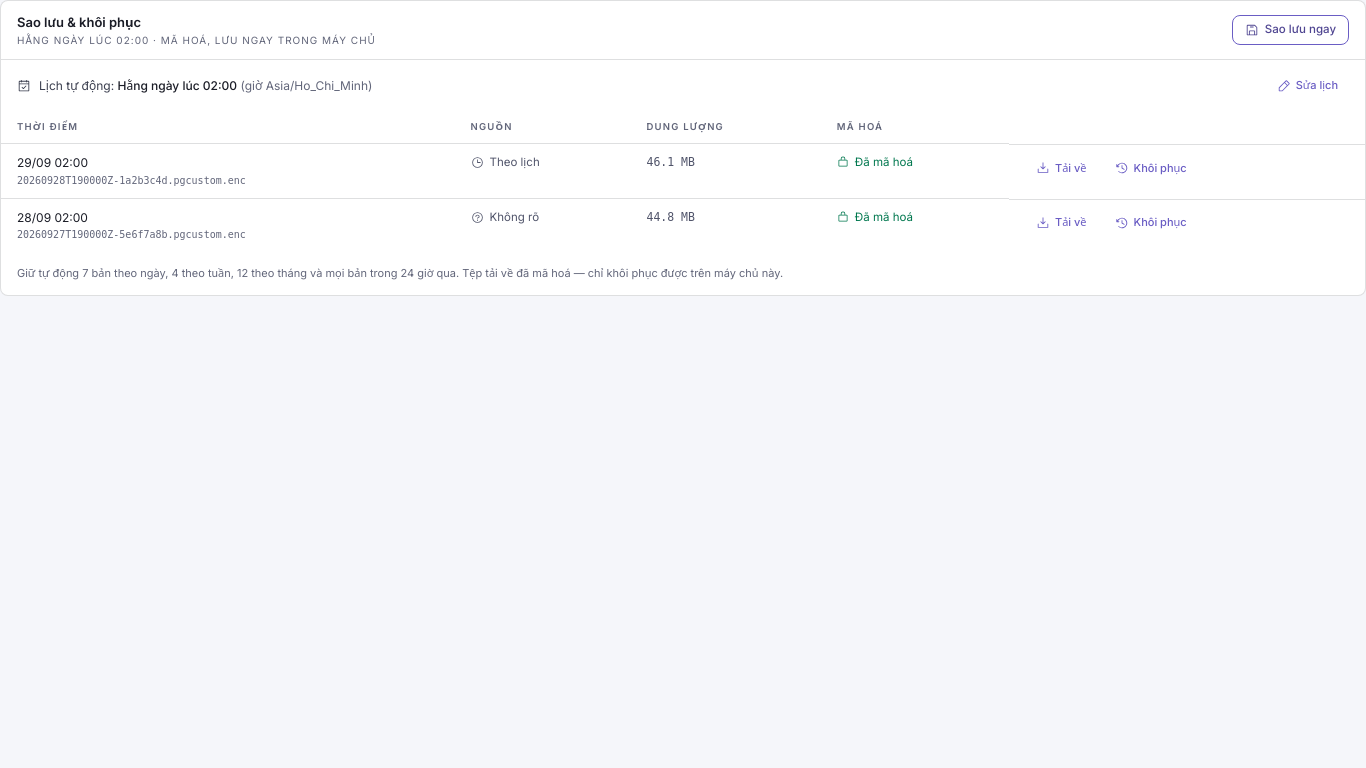
Test: <BackupPanel> › Khôi phục: phải gõ đúng "KHÔI PHỤC", gửi {key, confirm} rồi hiện tiến trình
Click the button with aria-label "Khôi phục bản 29/09 02:00". click: (1151, 168)
box: [1104,155,1198,182]
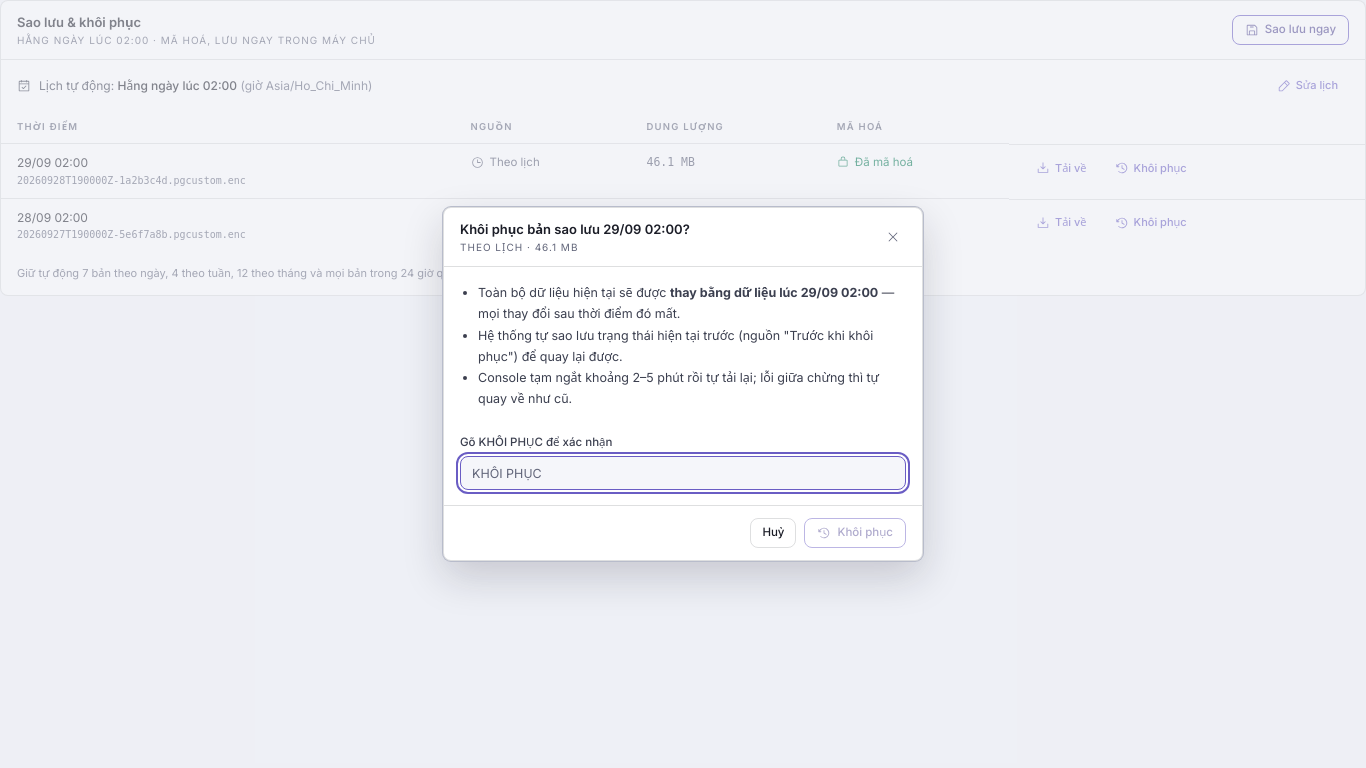
Expected: the text "Khôi phục bản sao lưu 29/09 02:00?" is shown, [460,220,690,238]
Expected: the button "Khôi phục" is disabled, [804,518,906,548]
Type "khôi phục" into the field labelled "Gõ KHÔI PHỤC để xác nhận". click: (683, 473)
box: [460,456,906,490]
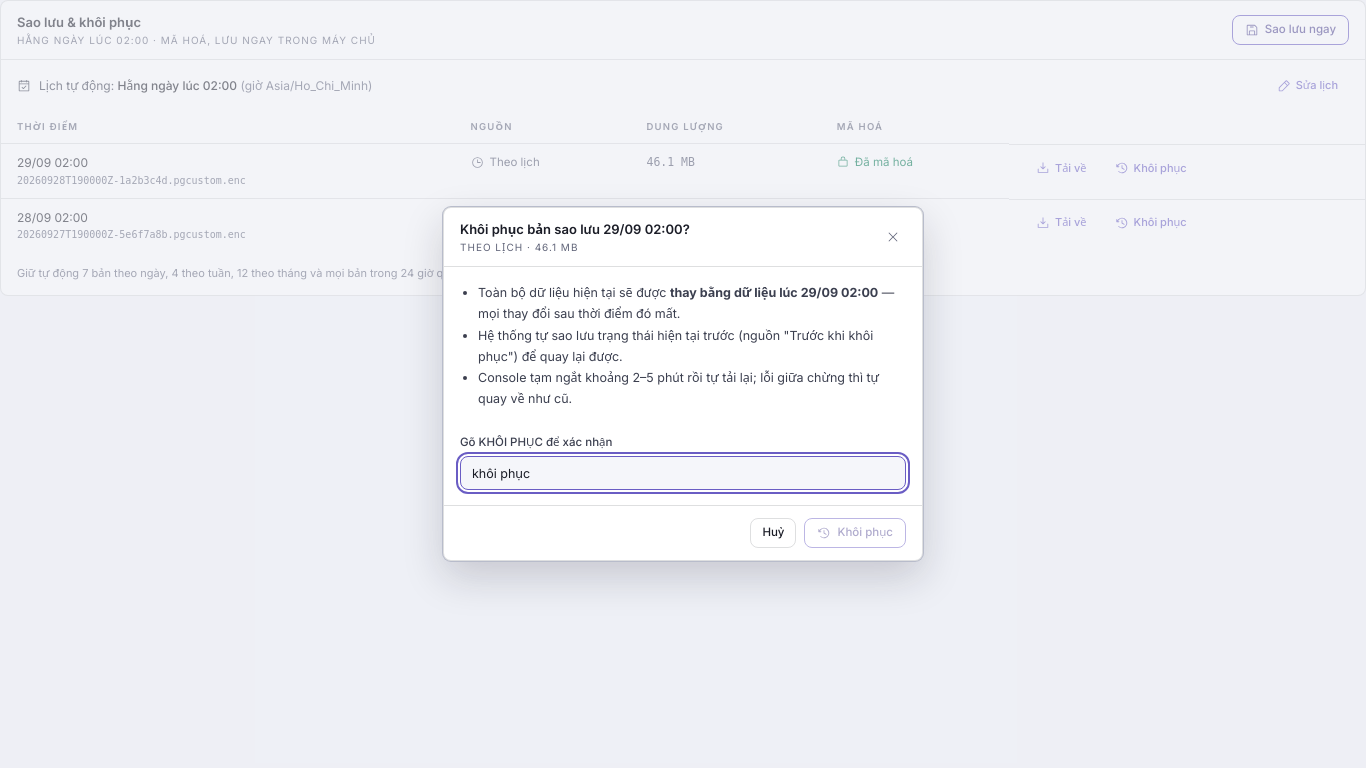
Expected: the button "Khôi phục" is disabled, [804,518,906,548]
Replace the text in the field labelled "Gõ KHÔI PHỤC để xác nhận" with "KHÔI PHỤC". click: (683, 473)
box: [460,456,906,490]
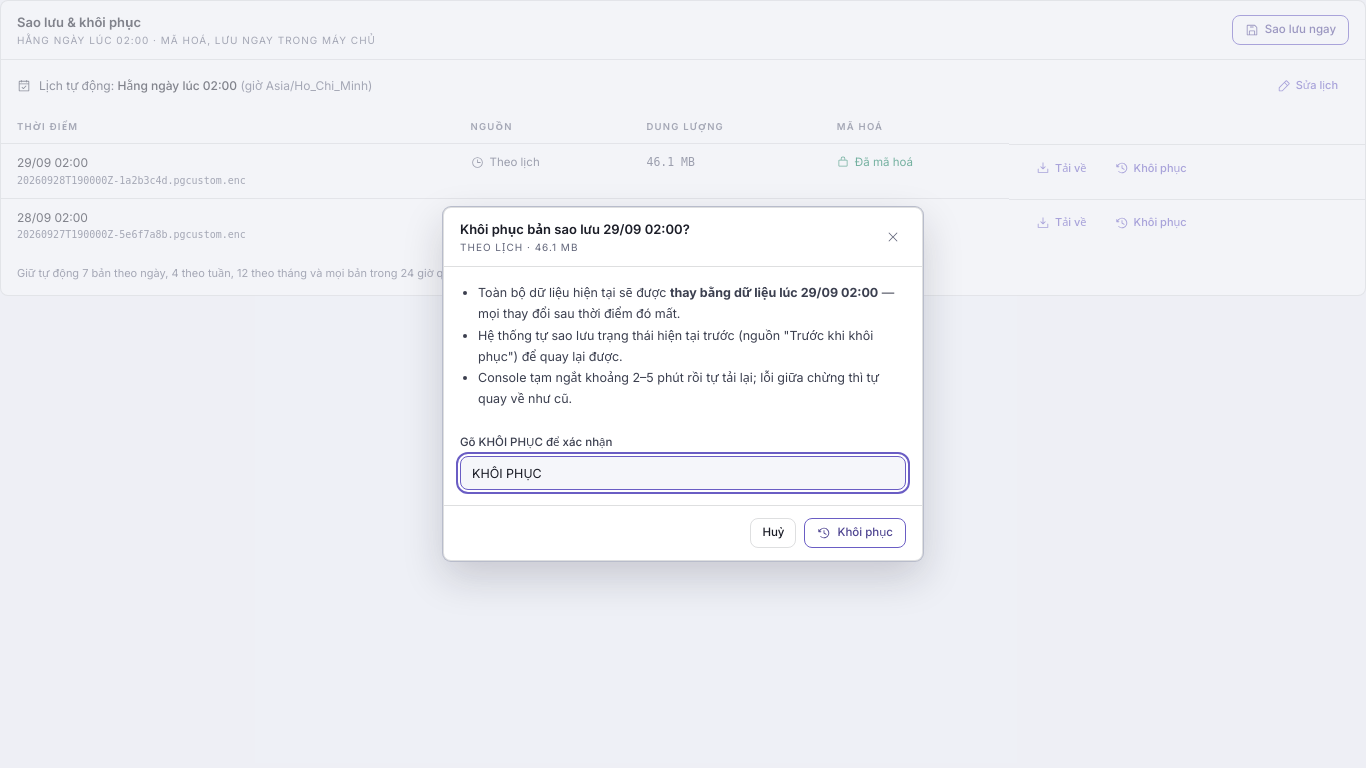
Expected: the button "Khôi phục" is enabled
Click the button "Khôi phục". click: (855, 533)
box: [804,518,906,548]
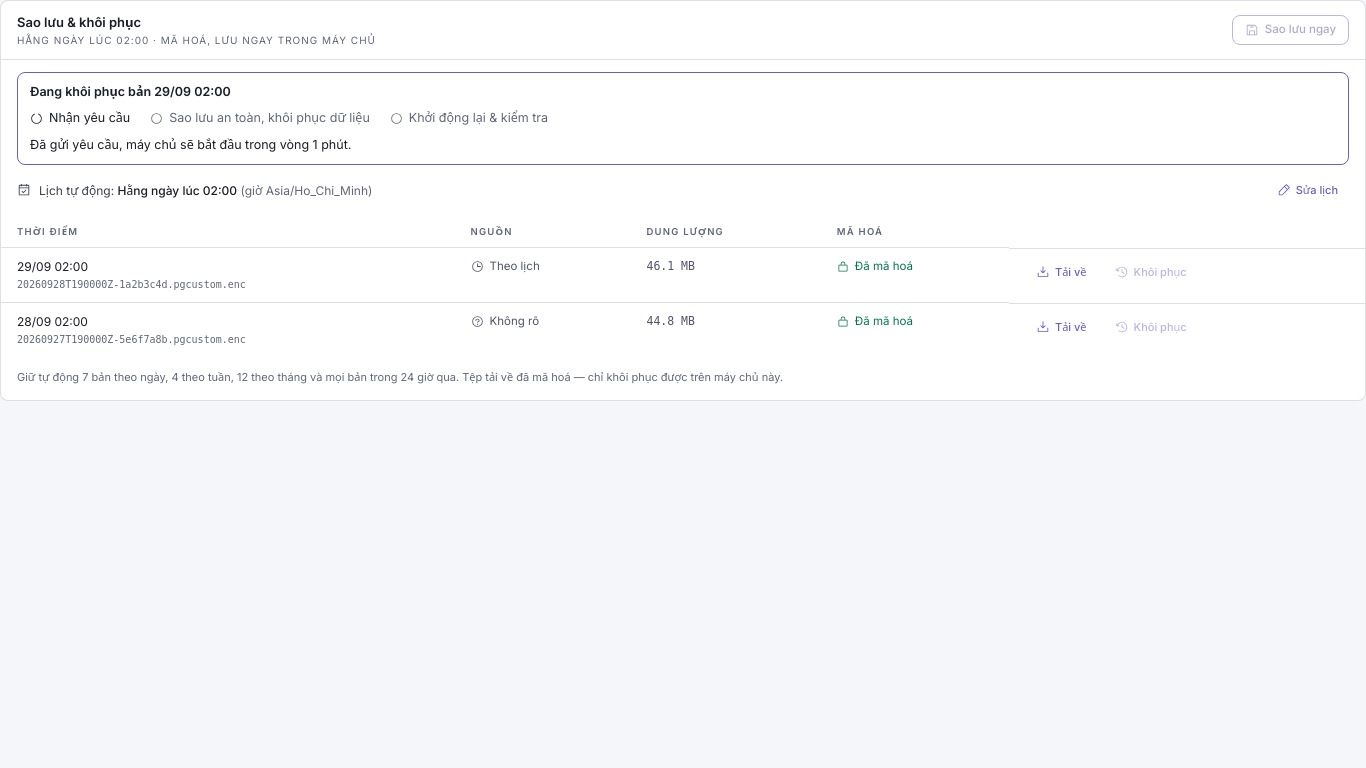
Expected: the text "Đang khôi phục bản 29/09 02:00" is shown, [30,84,231,99]
Expected: the list item "Nhận yêu cầu" is shown, [30,110,130,128]
Expected: the dialog is gone
